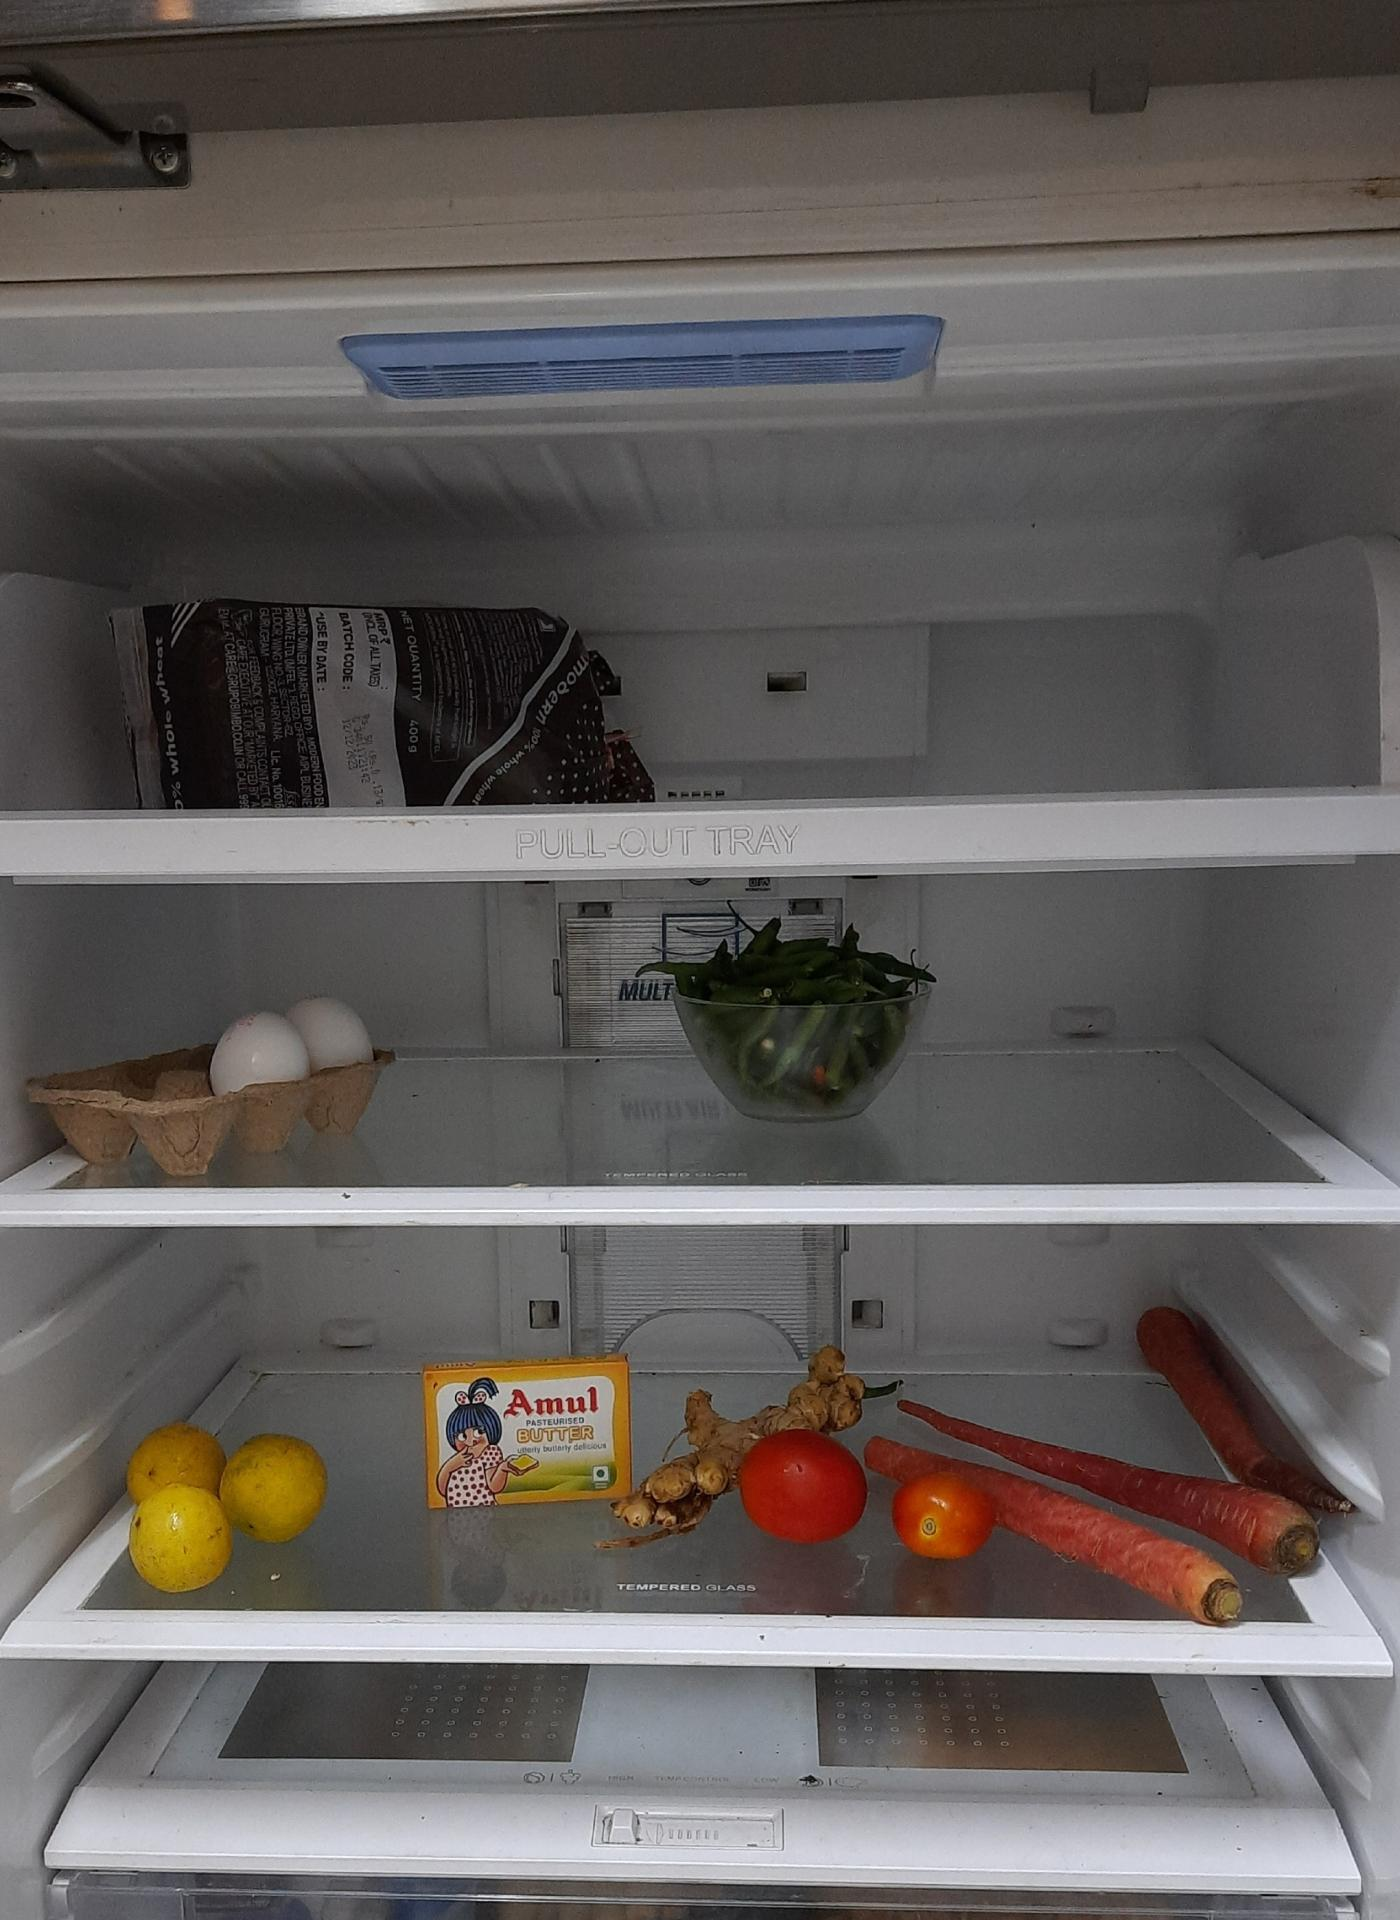bread: (107, 592, 644, 806)
butter: (420, 1365, 631, 1518)
carrots: (895, 1404, 1349, 1622), (1138, 1288, 1361, 1509)
chillies: (677, 930, 929, 1117)
egg: (210, 996, 389, 1105)
ginger: (634, 1334, 875, 1512), (605, 1394, 760, 1550)
lemon: (122, 1422, 328, 1588)
tomato: (754, 1419, 874, 1543), (898, 1465, 993, 1562)
